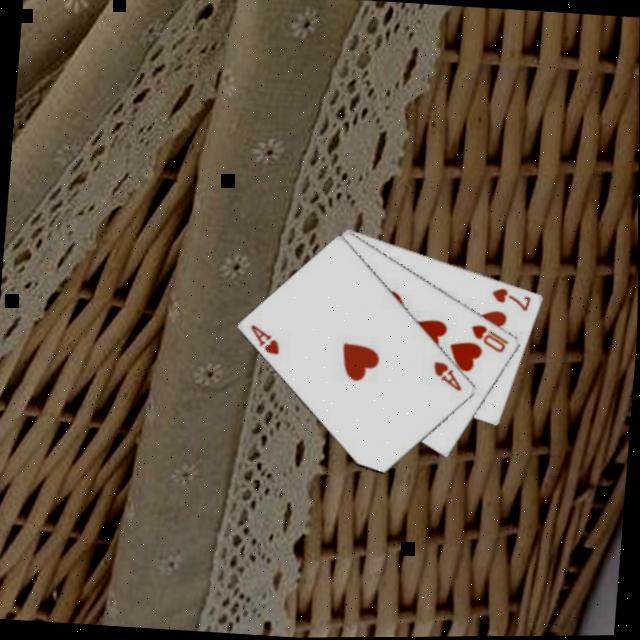10H: (465, 322, 511, 358)
7H: (486, 286, 532, 317)
AH: (244, 323, 282, 359), (427, 361, 465, 396)
